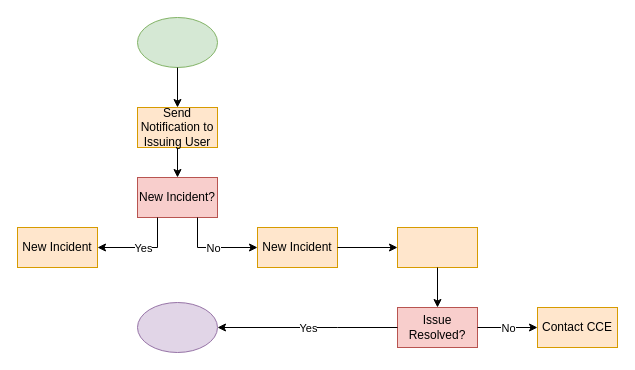
Image size: 635x370. Some labels were removed from this diagram. Each missing label, with the box of its shape:
End: (136, 302, 218, 352)
Push Solution: (396, 226, 478, 268)
Start: (136, 16, 218, 68)
